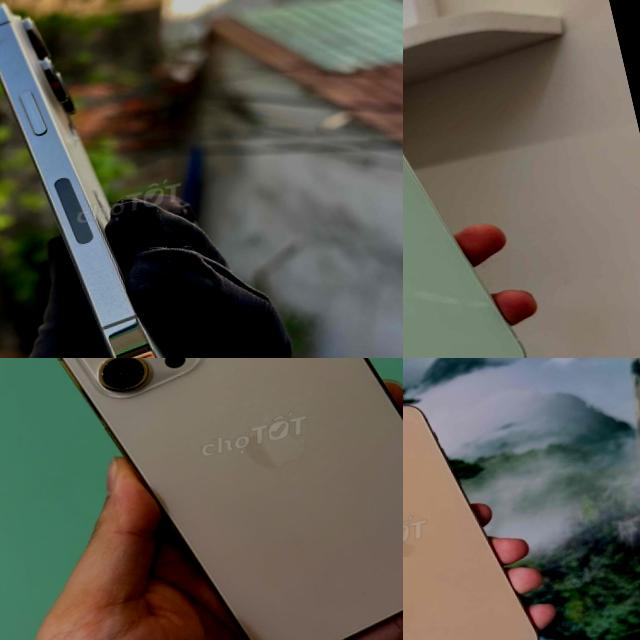gen_11: (403, 378, 560, 640)
gen_12_13: (26, 358, 403, 640), (403, 81, 541, 358)
gen_14: (0, 0, 227, 358)
